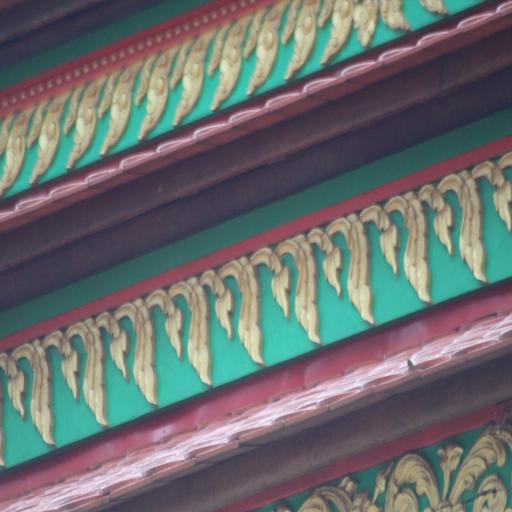la: (311, 202, 404, 336), (433, 155, 502, 291), (219, 253, 294, 367), (386, 182, 453, 305), (272, 236, 342, 351), (7, 344, 80, 445), (114, 303, 184, 408), (64, 321, 132, 429), (168, 280, 232, 388), (208, 13, 257, 113), (139, 45, 182, 140), (246, 1, 289, 96), (67, 74, 107, 176), (176, 23, 215, 124), (106, 53, 144, 156), (282, 0, 325, 78), (32, 90, 68, 182), (0, 102, 31, 193), (323, 0, 356, 64), (355, 0, 381, 51), (382, 0, 407, 37)
